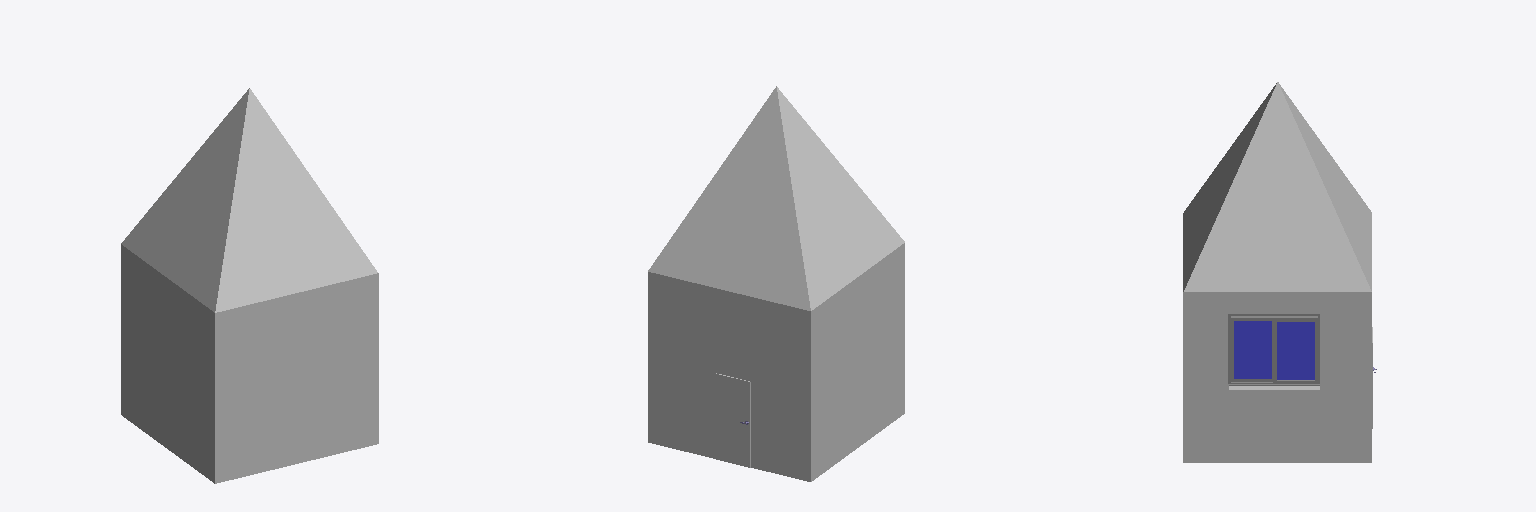
Rendered from house2.obj.
3 views of the same model, side by side, from view 1: azimuth 30°, elevation 25°; view 2: azimuth 150°, elevation 25°; view 3: azimuth 270°, elevation 25° (orthographic).
Parts seen in each view (by area): view 1: Windows_Sill; view 2: Windows_Sill; view 3: Windows_Sill.
Boxes of the visible parts, x1=… form: Windows_Sill: x1=121, y1=88, x2=378, y2=483; Windows_Sill: x1=648, y1=86, x2=904, y2=481; Windows_Sill: x1=1183, y1=82, x2=1376, y2=462.
Bounding box in the file's own units: 1.09 × 2 × 1.02.